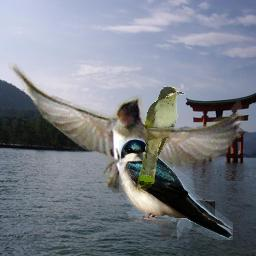Cuckoo: (137, 86, 185, 193)
Swallow: (8, 62, 247, 205), (119, 138, 233, 240)
